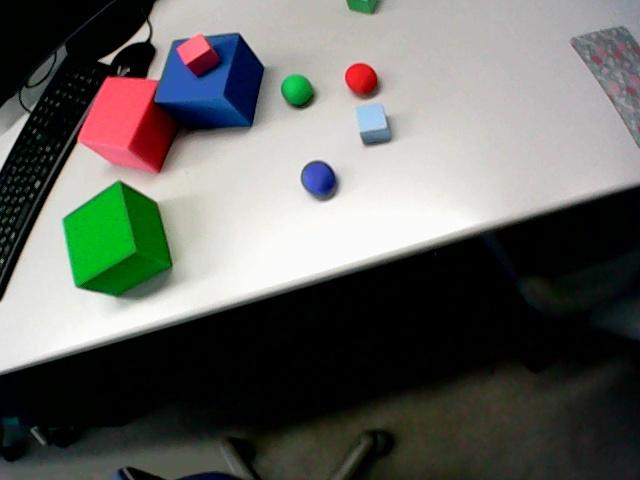blue_block: (155, 33, 263, 127), (356, 103, 391, 143), (111, 467, 163, 479), (179, 472, 239, 479), (1, 417, 20, 427)
red_block: (78, 77, 177, 172), (176, 34, 220, 75)
